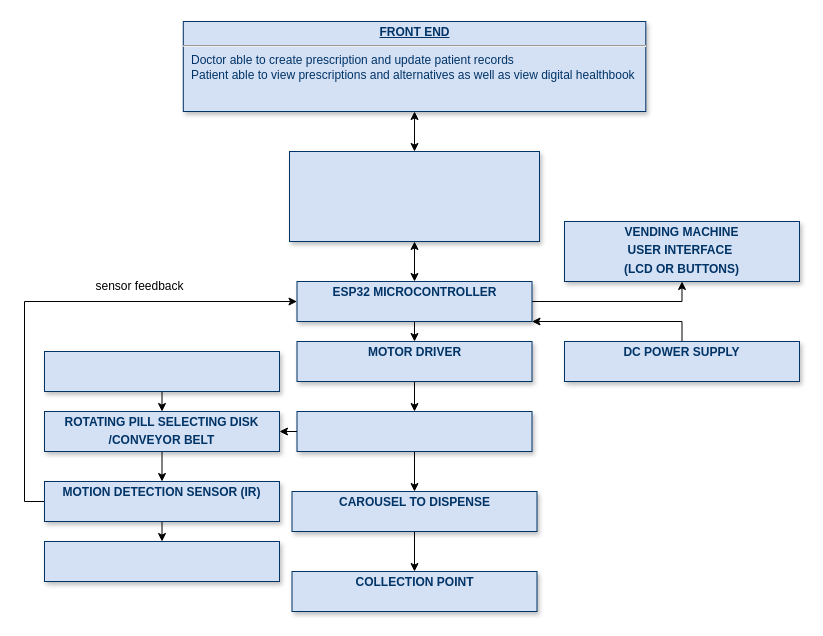
This 823x636 diagram has some shape labels left out. Here are the shapes that lost their labels. From the top down, the centre of each, then its label:
At (415,197): "BACKEND APIs Database Medication Alternative Suggestion AI model SMS sending".
At (163,372): "PILL STORAGE CONTAINER".
At (415,432): "STEPPER MOTORS".
At (163,562): "DISPENSING FUNNEL".
